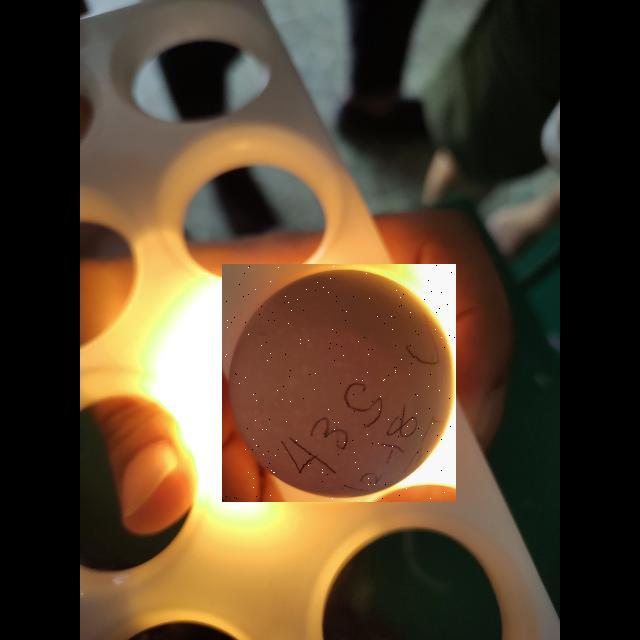Fertile: (222, 264, 456, 502)
